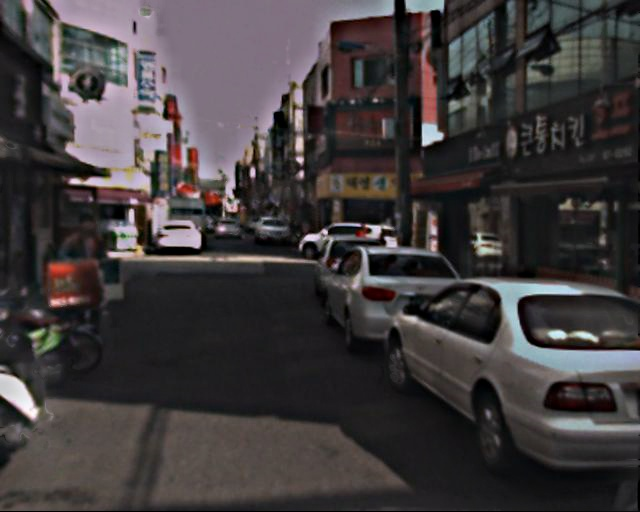person: (58, 213, 122, 348), (354, 222, 370, 262)
